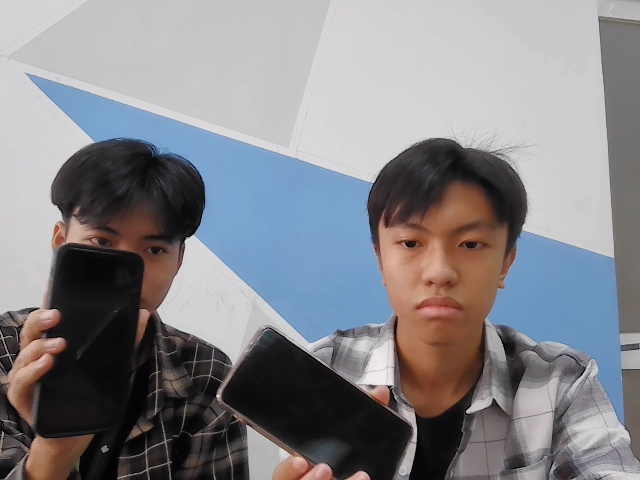human: (370, 135, 525, 337)
phone: (213, 325, 416, 480), (32, 236, 140, 441)
